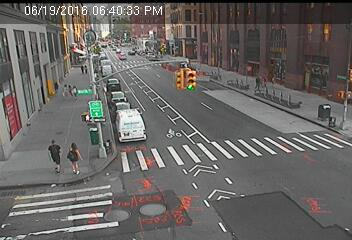neg: (195, 46, 209, 65), (223, 59, 237, 77), (234, 63, 246, 80), (215, 56, 226, 71), (172, 41, 183, 56), (204, 55, 214, 69), (183, 46, 192, 59), (242, 46, 251, 58), (227, 44, 236, 56)
pos: (39, 139, 66, 175), (59, 142, 85, 177), (249, 73, 264, 93), (69, 83, 83, 102), (57, 82, 70, 100), (261, 71, 273, 88), (77, 64, 85, 75)
